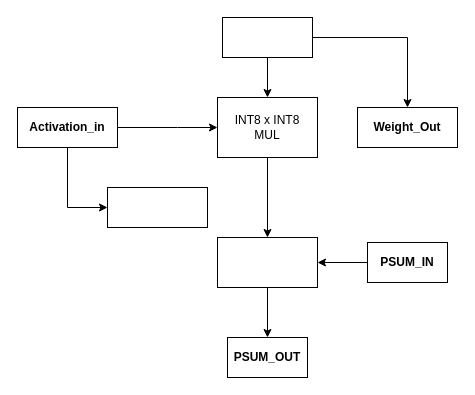
The diagram is 475 pixels wide and 395 high, and some of its shapes have lost their labels. The centre of each missing label's shape, as x and y in pixels:
ACC (24-bit): point (267, 262)
Activation_out: point (157, 207)
Weight_in: point (267, 37)
